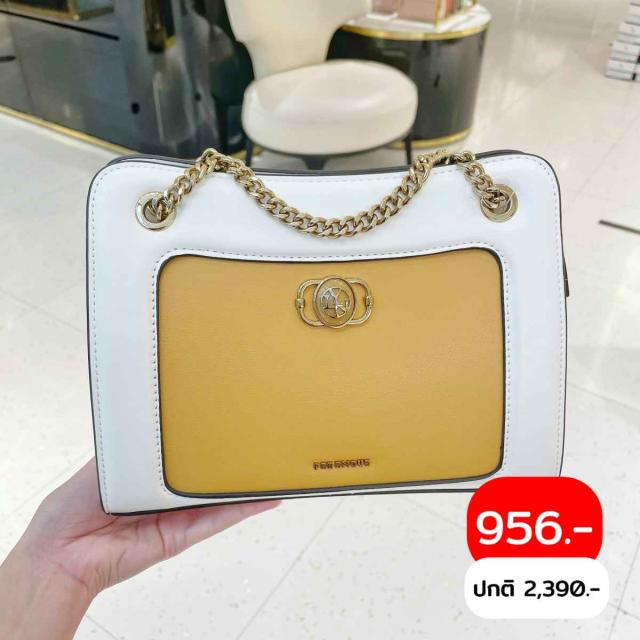Handbag: (82, 140, 576, 518)
